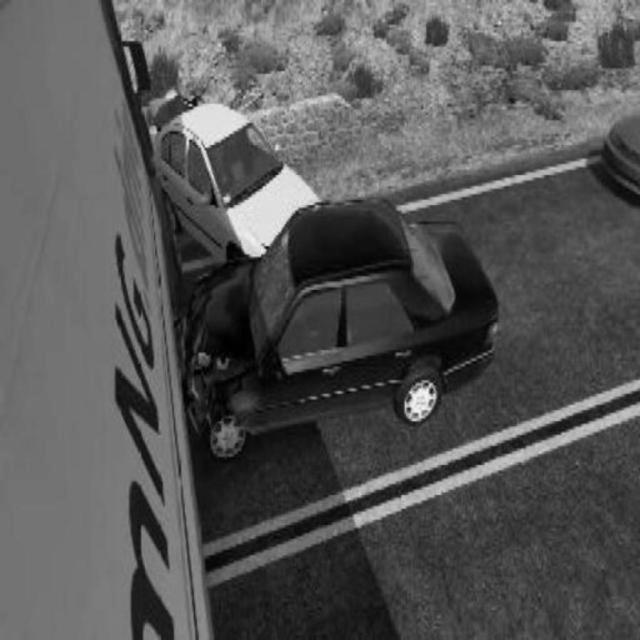accident: (138, 102, 499, 456)
